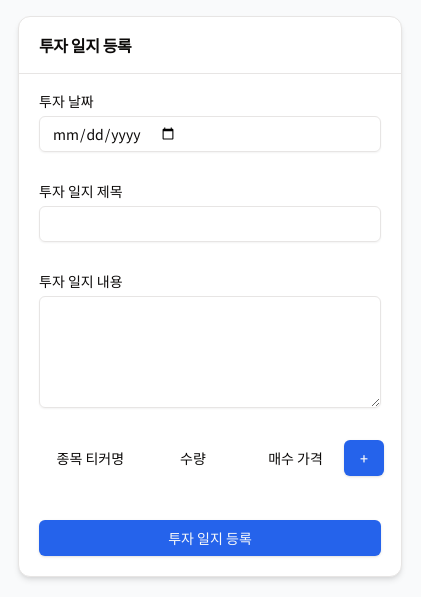
Test case: DiaryAdd Test › 투자 정보 미입력시 validation 출력
The image size is (421, 600).
Click the button with aria-label "submit_button": (210, 538) top-left (39, 520), bottom-right (381, 556)
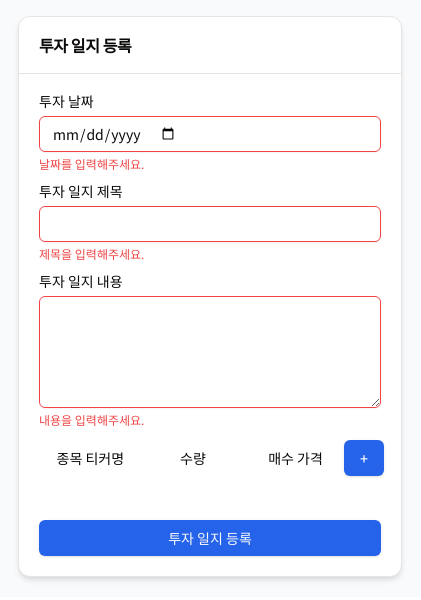
Check: the text named "date_error_text" reads "날짜를 입력해주세요.", box top-left (39, 155), bottom-right (144, 172)
Check: the text named "title_error_text" reads "제목을 입력해주세요.", box top-left (39, 245), bottom-right (144, 262)
Check: the text named "contents_error_text" reads "내용을 입력해주세요.", box top-left (39, 411), bottom-right (144, 428)
